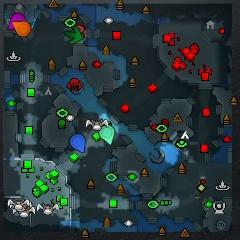p1: (70, 134, 86, 153)
p2: (99, 124, 115, 146)
p3: (9, 13, 25, 30)
p5: (12, 21, 31, 37)
x4: (65, 26, 82, 44)
